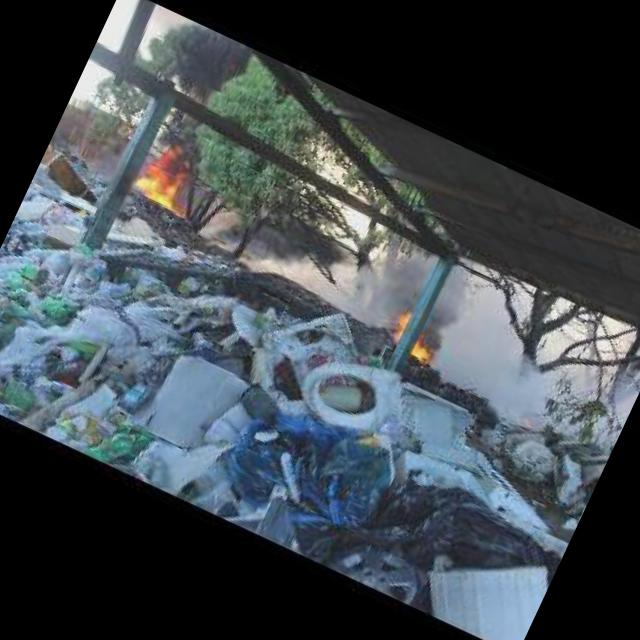fire: (133, 134, 209, 210), (406, 334, 438, 368), (390, 304, 418, 342)
